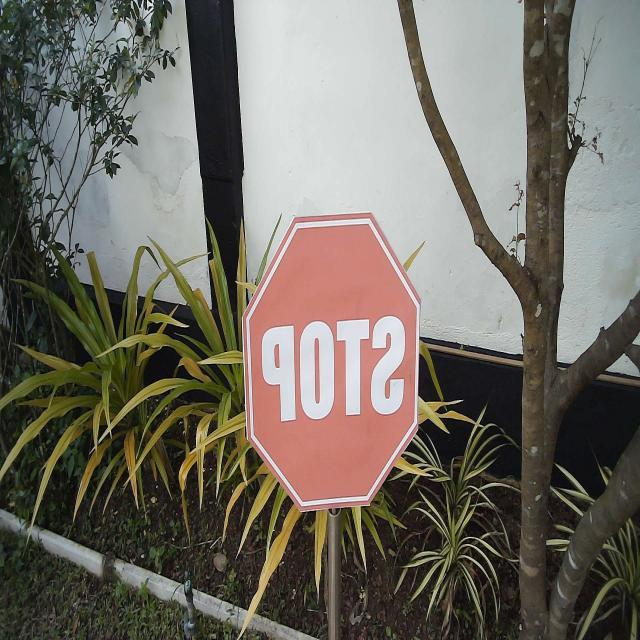stop: (239, 208, 423, 516)
